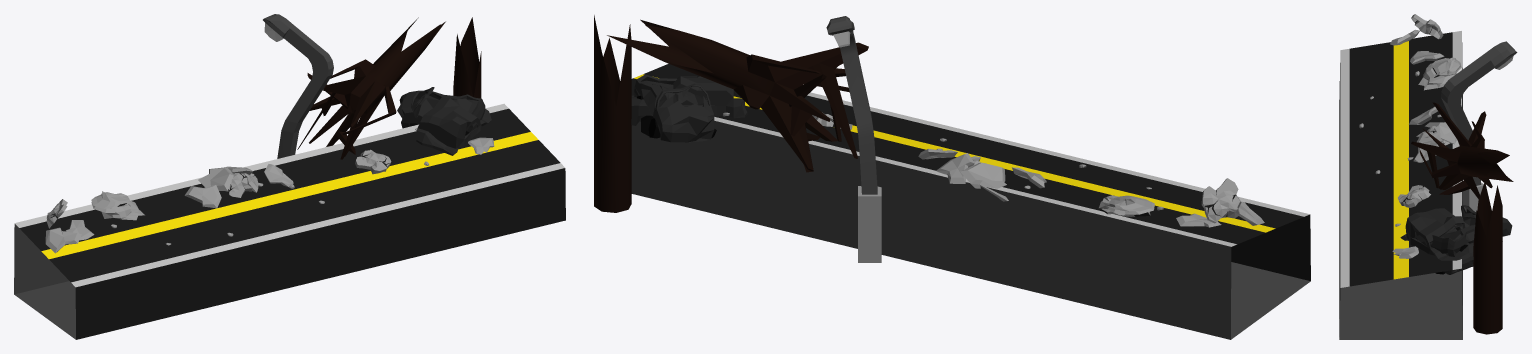
The model's file is school@road.FBX.
The picture shows the model from 3 angles, left to right: view 1: azimuth 30°, elevation 25°; view 2: azimuth 150°, elevation 25°; view 3: azimuth 270°, elevation 25°; orthographic projection. The views are drawn at different scales.
Parts seen in each view (by area): view 1: Box003, Box001; view 2: Box003, Box001; view 3: Box003, Box001.
Part boxes in pixels (box(x1,y1,x2,y2)): Box003: box(14, 14, 565, 339); Box001: box(397, 87, 485, 135); Box003: box(594, 15, 1310, 339); Box001: box(634, 74, 716, 142); Box003: box(1339, 14, 1517, 339); Box001: box(1430, 205, 1512, 256).
Bounding box in the file's own units: 154 × 59.02 × 48.88.
